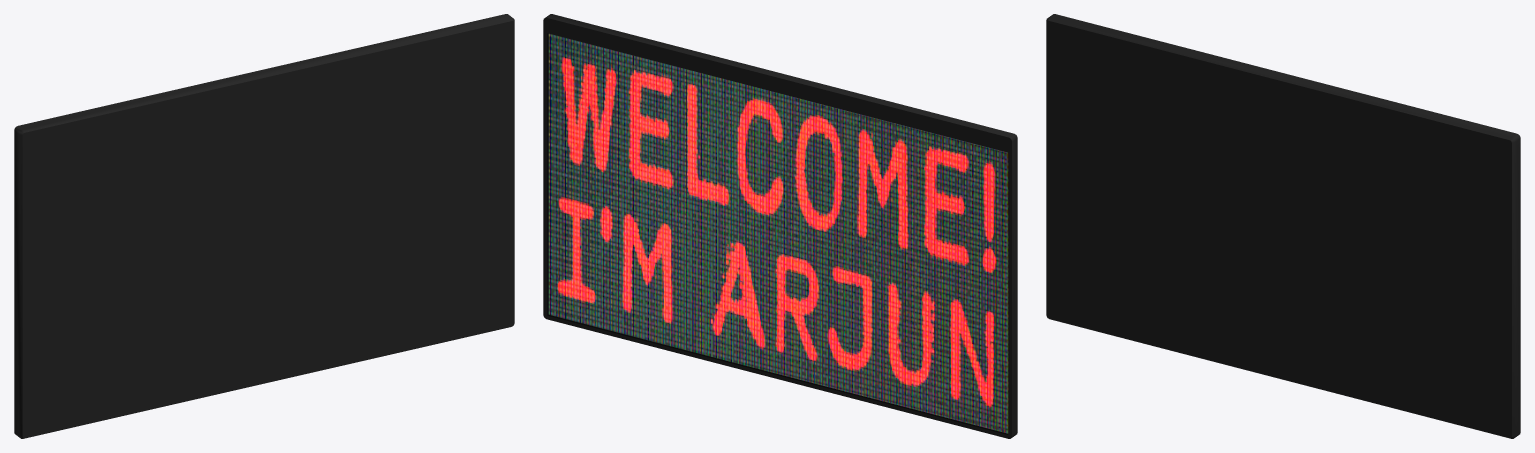
Rendered from monitorbetter.glb.
3 renders of one model, left to right at view 1: azimuth 30°, elevation 25°; view 2: azimuth 150°, elevation 25°; view 3: azimuth 330°, elevation 25°, orthographic. The views are drawn at different scales.
Visible parts, largest first — view 1: case; view 2: screen, case; view 3: case.
Boxes of the visible parts, bbox=[...] form: case: bbox=[14, 14, 514, 438]; screen: bbox=[548, 33, 1008, 433]; case: bbox=[543, 14, 1017, 438]; case: bbox=[1046, 14, 1520, 438].
Bounding box in the file's own units: 6.5 × 3.93 × 0.3291.
3 materials, 1 textured.
